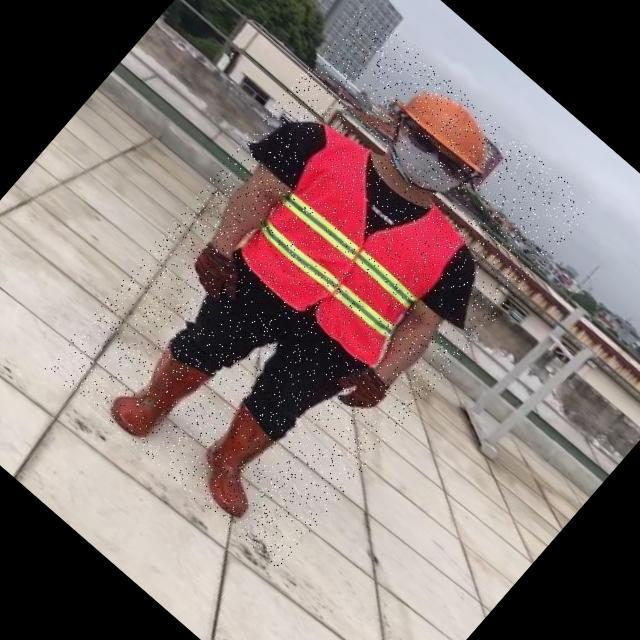hard_hat: (390, 70, 518, 190)
safety_vest: (227, 123, 475, 369)
vehicle: (43, 4, 594, 572)
work_boots: (181, 402, 297, 519), (100, 342, 208, 453)
